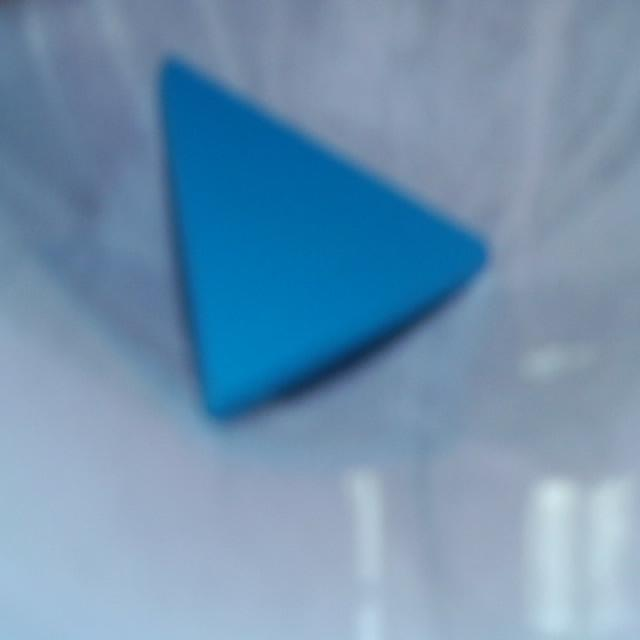square: (160, 60, 486, 417)
triangle: (161, 61, 485, 413)
